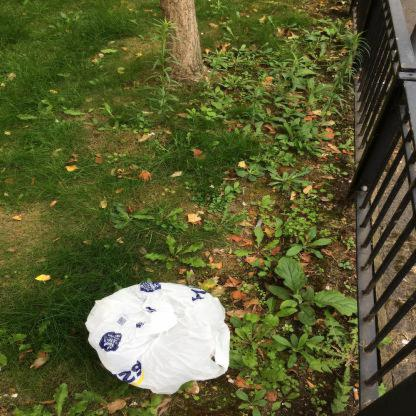Plastic bag - wrapper: (85, 282, 230, 395)
